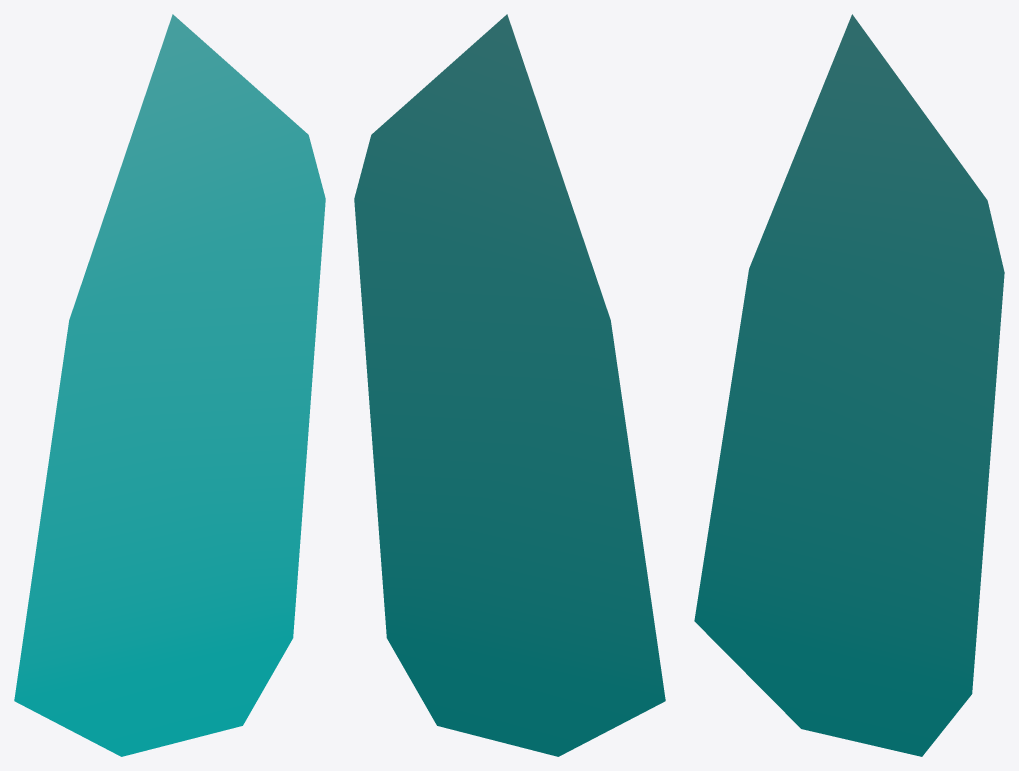
Rendered from Wheat_Grass_tdcrdbur_Mid_tdcrdbur_VarD_LOD2.fbx.
3 renders of one model, left to right at view 1: azimuth 30°, elevation 25°; view 2: azimuth 150°, elevation 25°; view 3: azimuth 330°, elevation 25°, orthographic.
Visible parts, largest first — view 1: _9b00_VarD_LOD3; view 2: _9b00_VarD_LOD3; view 3: _9b00_VarD_LOD3.
Boxes of the visible parts, left/top/right/bottom form: _9b00_VarD_LOD3: left=14, top=14, right=325, bottom=756; _9b00_VarD_LOD3: left=354, top=14, right=665, bottom=756; _9b00_VarD_LOD3: left=694, top=14, right=1004, bottom=756.
Bounding box in the file's own units: 50.18 × 112 × 0.
